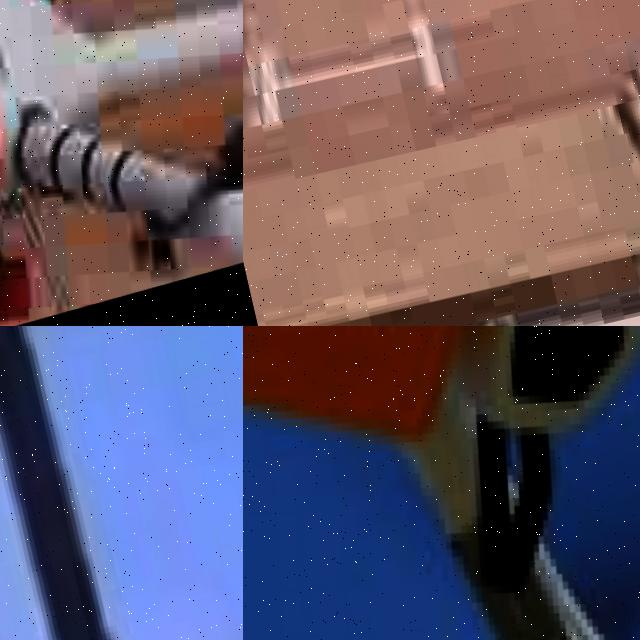0: (0, 0, 243, 326)
drone: (243, 326, 640, 640)
